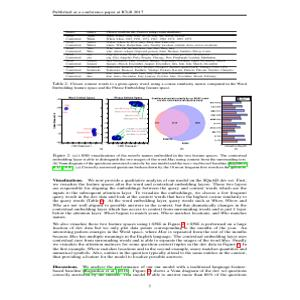diagram: (50, 94, 257, 151)
table: (56, 28, 241, 82)
text: (47, 154, 253, 280)
